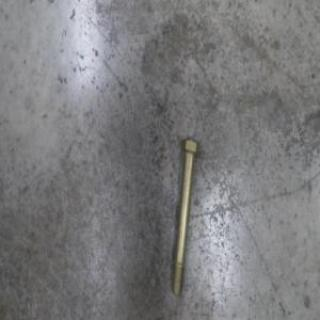Bolttrack_idkeyframe: (169, 137, 200, 296)
